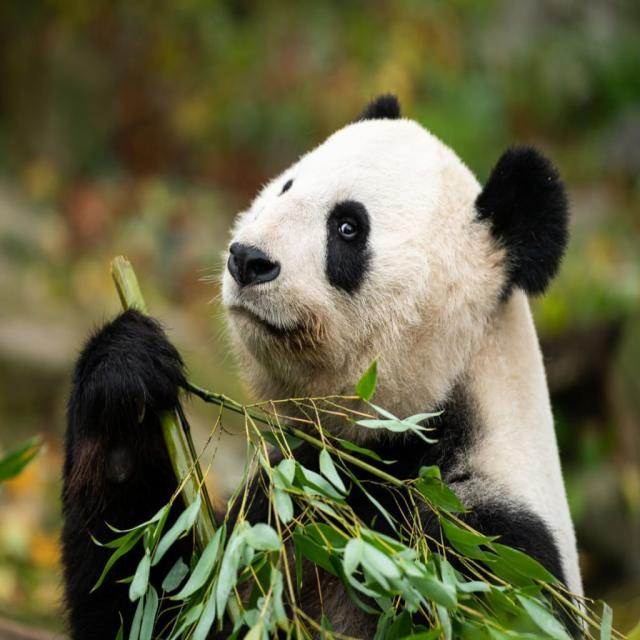Herbivorous: (219, 95, 584, 601), (61, 290, 217, 640)
